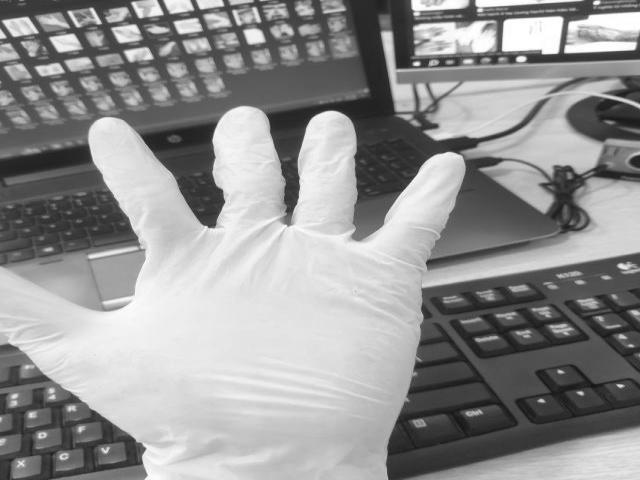gloved: (0, 107, 465, 480)
